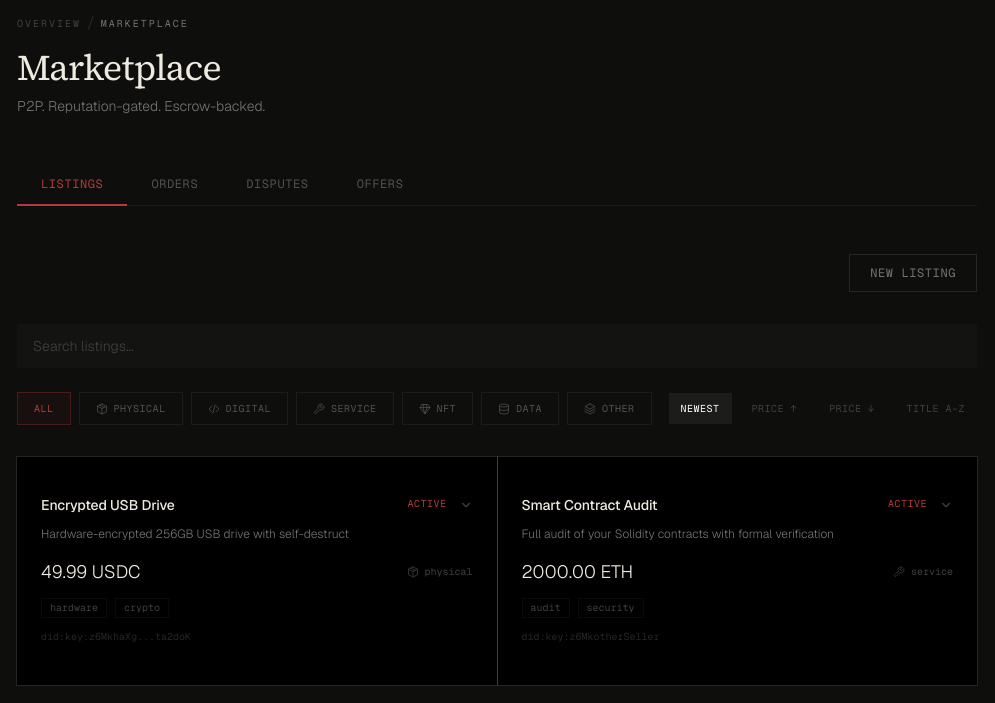
Test: Marketplace page › Empty states › shows empty offers state
Click the button "Offers".
click(380, 185)  # box x1=333 y1=164 x2=427 y2=206
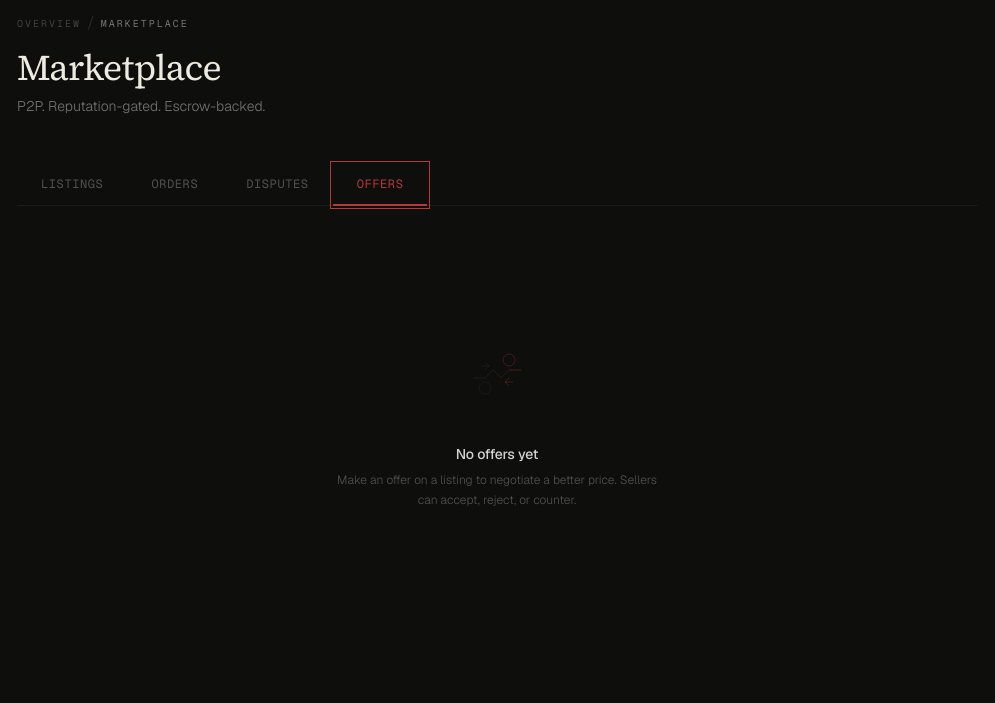
Check: the heading "No offers yet" is shown, box x1=456 y1=446 x2=538 y2=463
